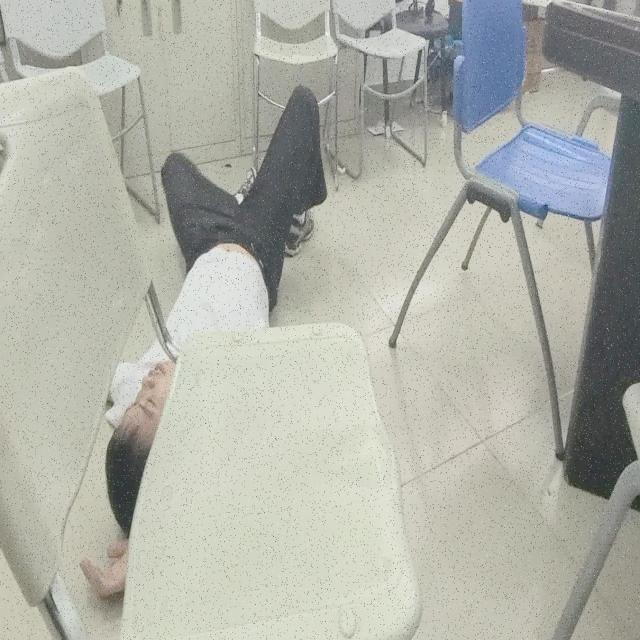fall: (77, 83, 320, 592)
